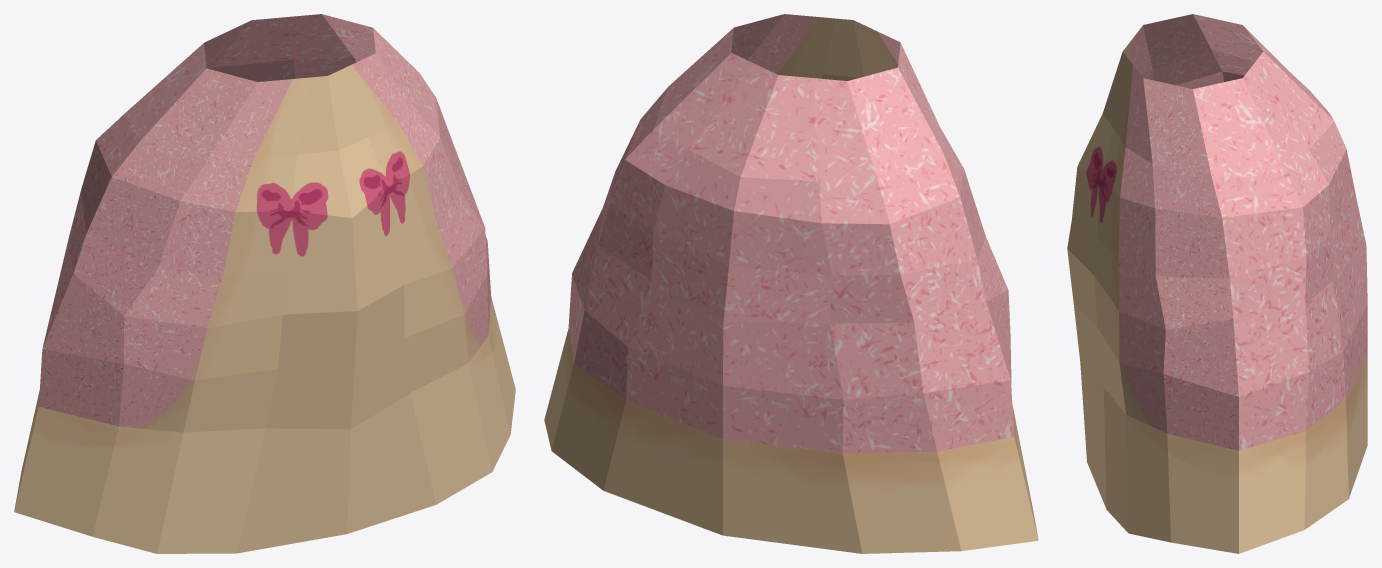
Rendered from princessskirt.fbx.
3 views of the same model, side by side, from view 1: azimuth 30°, elevation 25°; view 2: azimuth 150°, elevation 25°; view 3: azimuth 270°, elevation 25° (orthographic). The views are drawn at different scales.
Visible parts, largest first — view 1: CloudSkirt; view 2: CloudSkirt; view 3: CloudSkirt.
Boxes of the visible parts, x1=… form: CloudSkirt: x1=14, y1=14, x2=515, y2=553; CloudSkirt: x1=544, y1=14, x2=1038, y2=553; CloudSkirt: x1=1067, y1=14, x2=1367, y2=553.
Size of the model in its own units: 141 by 120 by 79.33.
